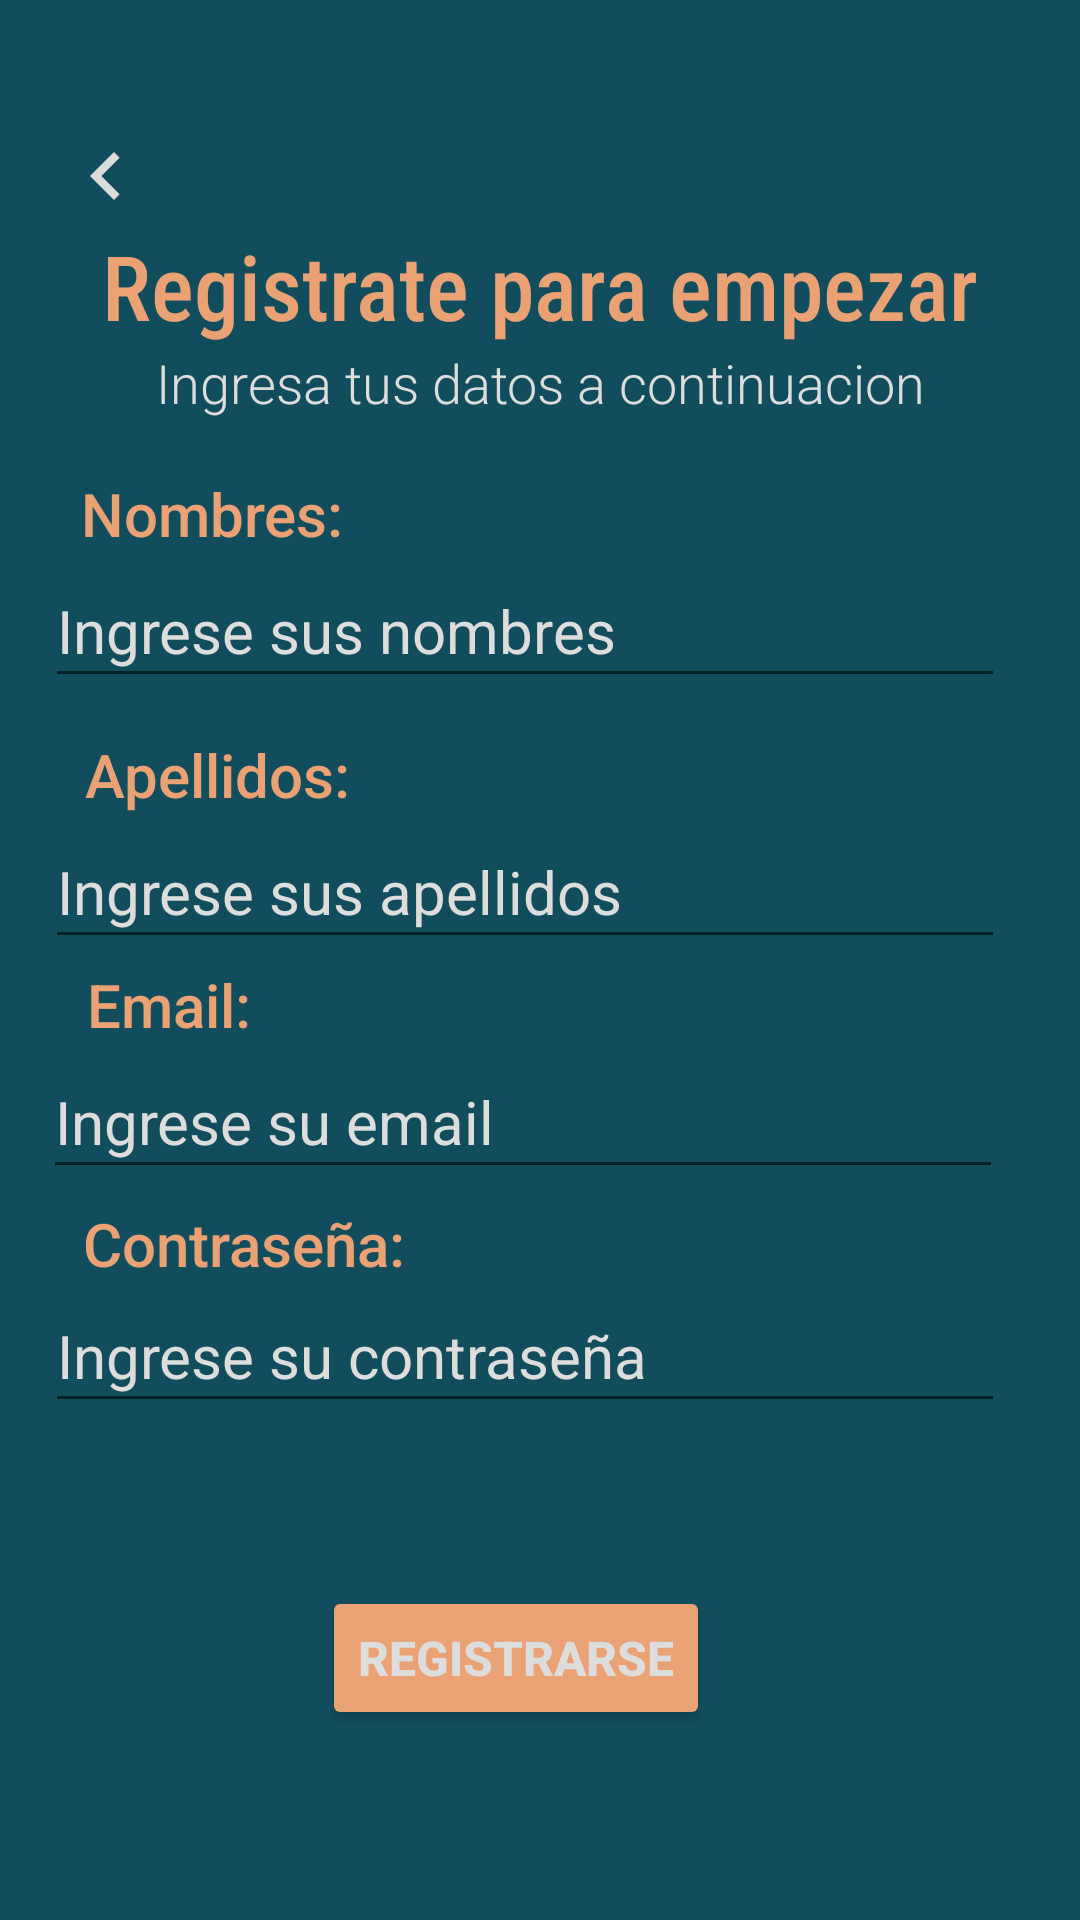

Icons on this 1080px x 1920px Android screen, each with the point to tap as (x,y):
atras: (105,176)
